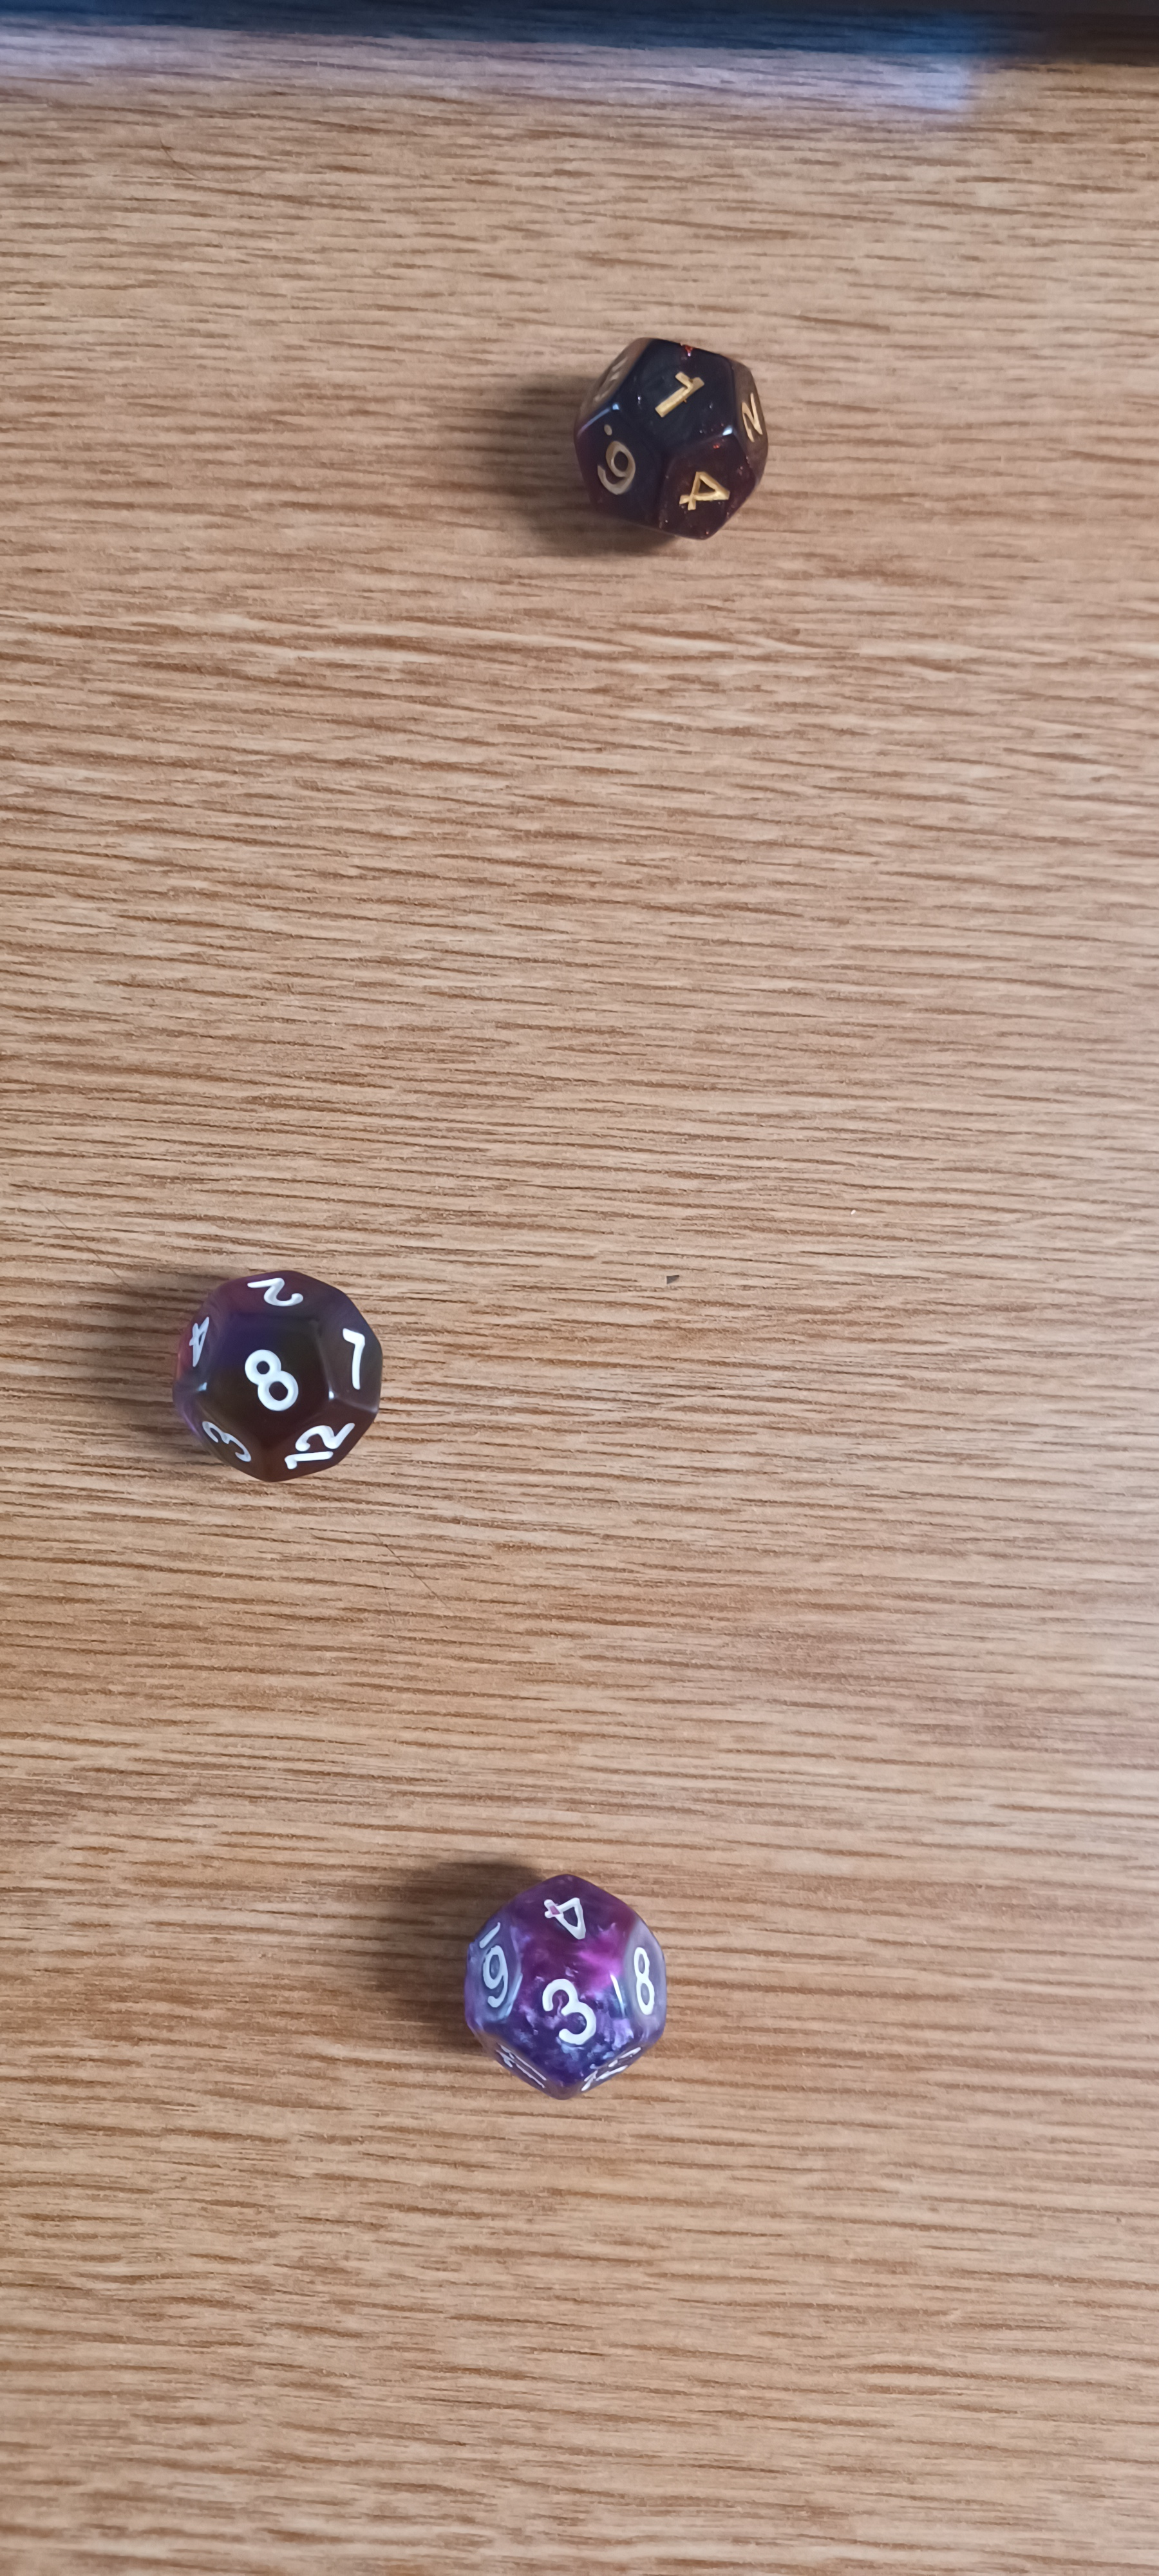eight: (118, 1214, 460, 1520)
one: (511, 274, 849, 570)
three: (401, 1830, 737, 2139)
